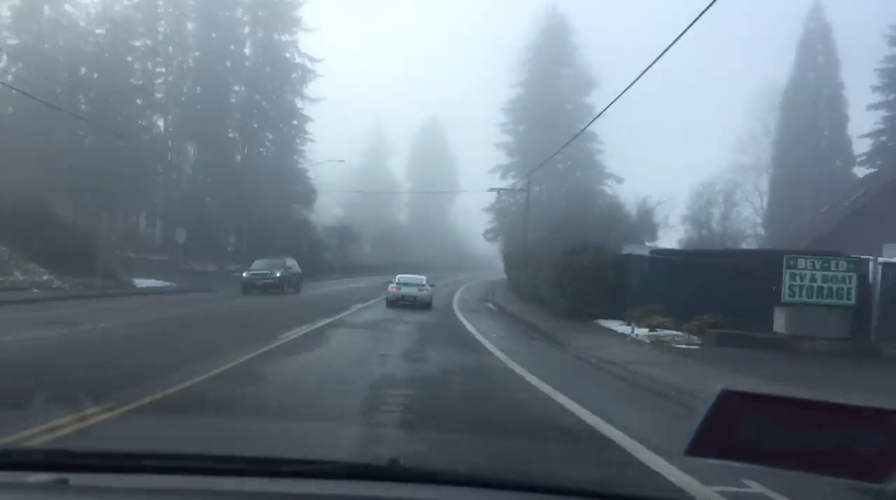car: (238, 256, 304, 295), (385, 271, 438, 311)
